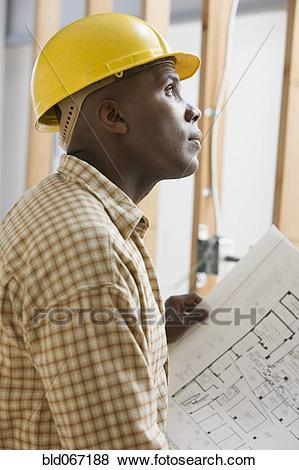helmet: (30, 10, 200, 133)
